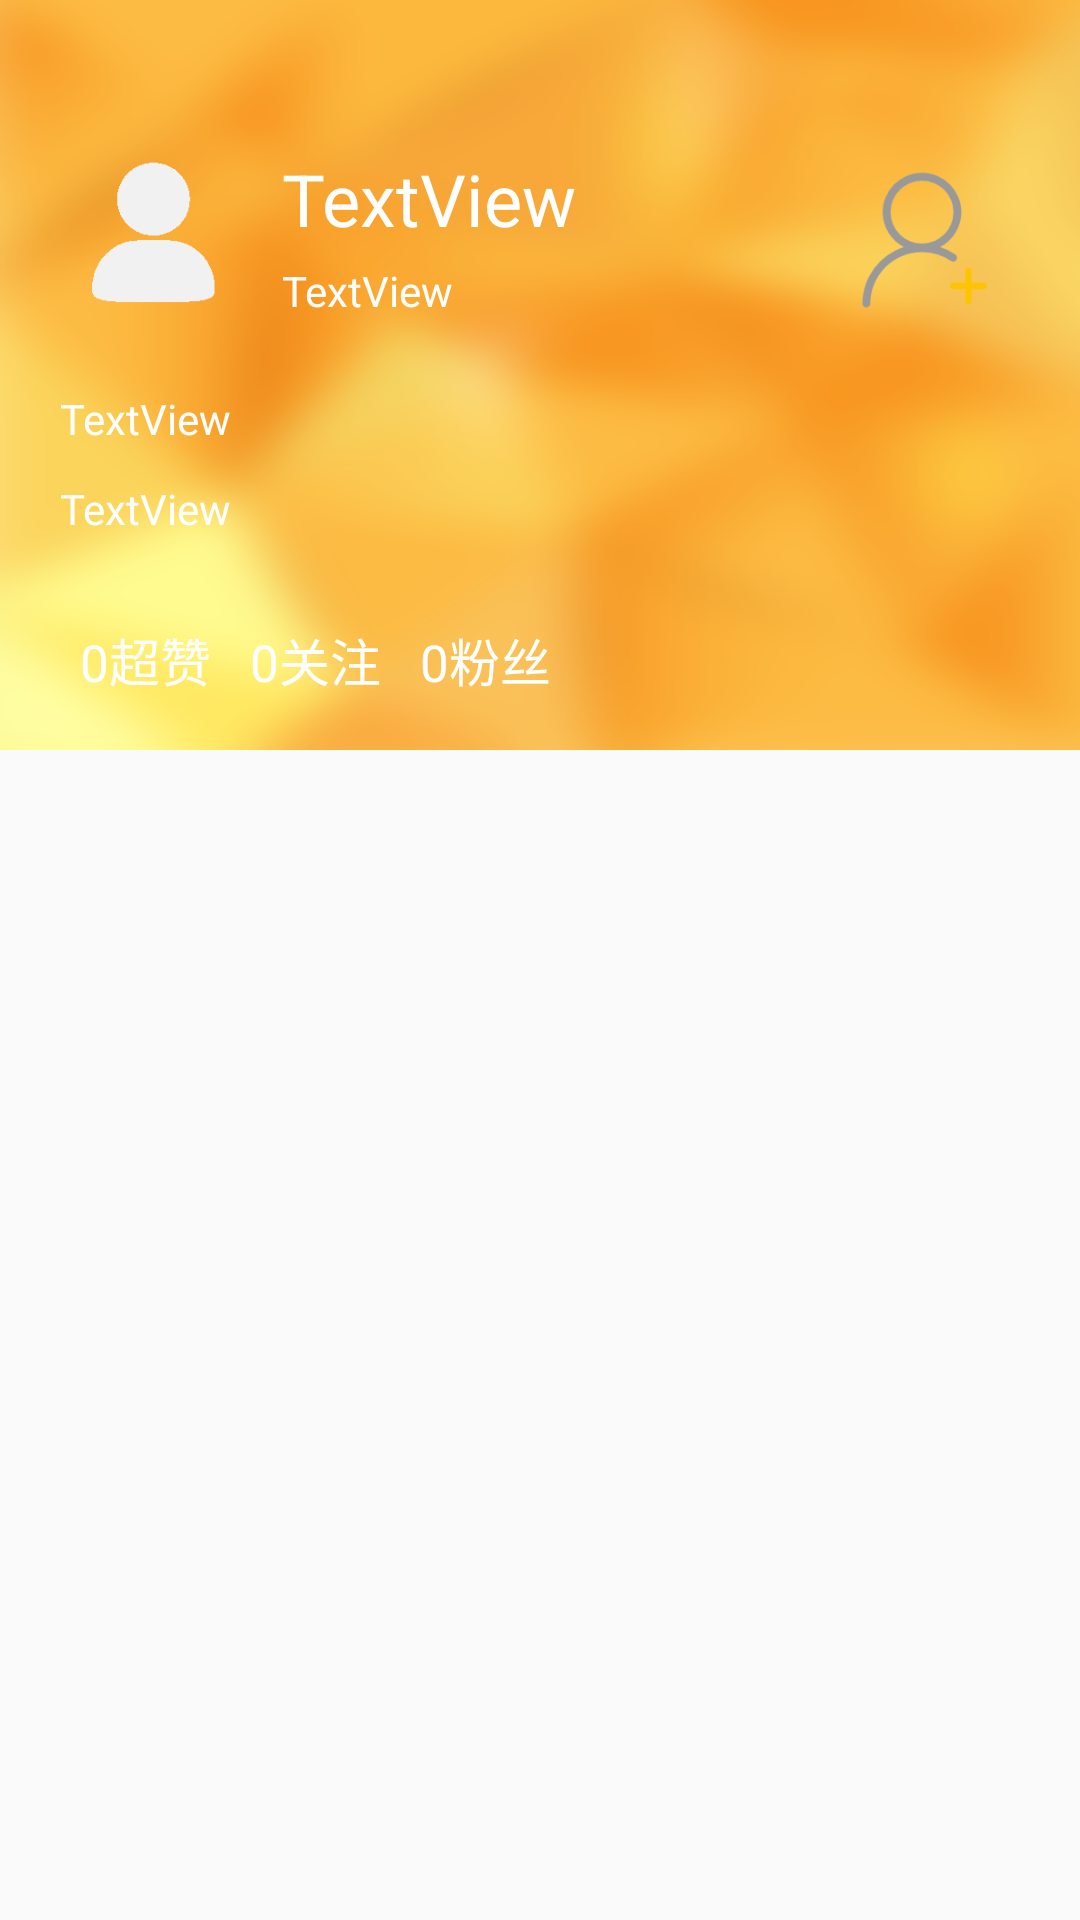

Locate icon controls on the screen. Image size 1080 x 1920, boxes as (x1, y1, x2, y2).
guanzhu: (828, 150, 1020, 330)
